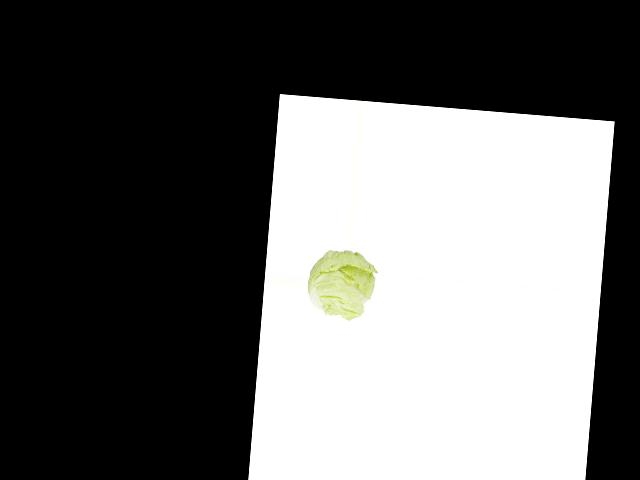lettuce: (303, 247, 377, 319)
